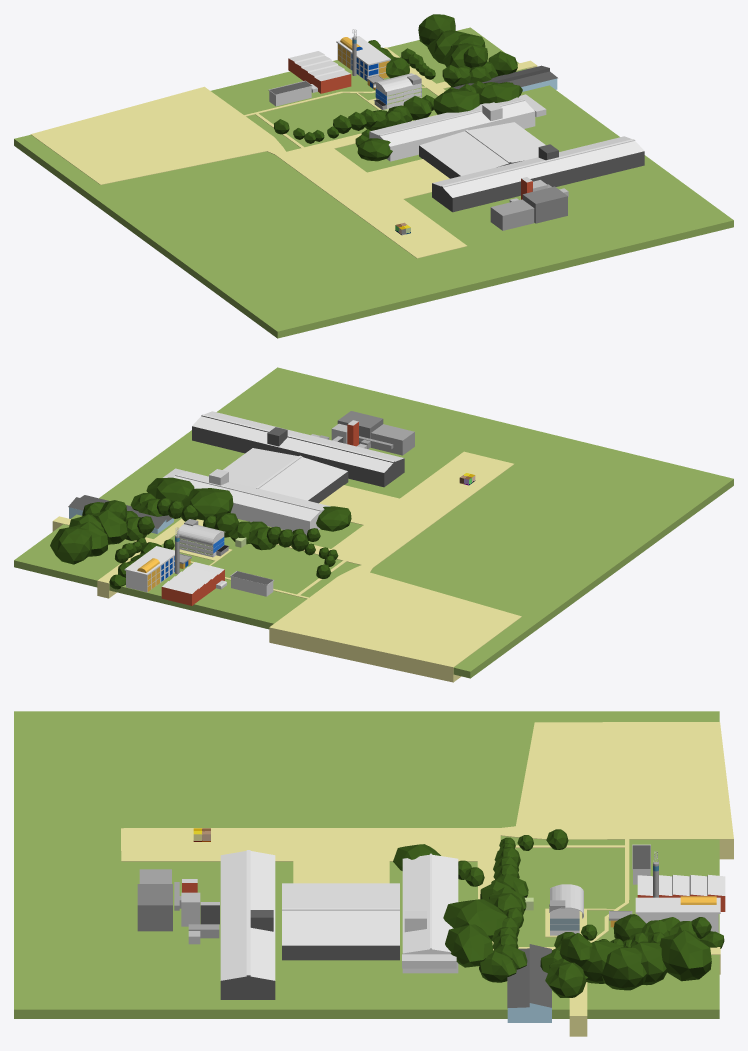
The model's file is poli.glb.
3 views of the same model, one above another, from view 1: azimuth 30°, elevation 25°; view 2: azimuth 150°, elevation 25°; view 3: azimuth 270°, elevation 25° (orthographic). The views are drawn at different scales.
Visible parts, largest first — view 1: Plane, Plane.001, Cube.011, Cube.009, Cube.008, Cube.005, Cube.003, Cube, Cube.013, Cube.023, Cube.014, Icosphere.013 (+5 smaller); view 2: Plane, Plane.001, Cube.011, Cube.009, Cube.008, Cube.005, Cube.003, Cube, Icosphere.015, Icosphere.013, Cube.014, Icosphere.014 (+6 smaller); view 3: Plane, Plane.001, Cube.009, Cube.011, Cube.008, Cube.023, Icosphere.015, Cube.005, Cube.003, Cube.013, Cube, Icosphere.016 (+12 smaller).
Boxes of the visible parts, x1,y1,x2,y2 form: Plane: [14, 27, 733, 338]; Plane.001: [31, 47, 537, 258]; Cube.011: [432, 136, 644, 212]; Cube.009: [419, 122, 545, 178]; Cube.008: [369, 97, 535, 161]; Cube.005: [288, 51, 351, 93]; Cube.003: [336, 36, 390, 81]; Cube: [373, 73, 421, 109]; Cube.013: [522, 186, 567, 223]; Cube.023: [453, 65, 557, 91]; Cube.014: [490, 199, 534, 230]; Icosphere.013: [433, 89, 480, 114]; Plane: [14, 367, 733, 678]; Plane.001: [52, 451, 521, 682]; Cube.011: [192, 411, 404, 487]; Cube.009: [222, 448, 348, 503]; Cube.008: [173, 471, 330, 535]; Cube.005: [161, 562, 224, 605]; Cube.003: [124, 546, 174, 592]; Cube: [177, 519, 229, 557]; Icosphere.015: [50, 526, 92, 564]; Icosphere.013: [181, 488, 233, 520]; Cube.014: [371, 424, 414, 455]; Icosphere.014: [146, 477, 194, 501]; Plane: [14, 711, 719, 1018]; Plane.001: [121, 722, 733, 1036]; Cube.009: [282, 883, 399, 960]; Cube.011: [220, 850, 275, 999]; Cube.008: [402, 853, 458, 973]; Cube.023: [507, 944, 551, 1022]; Icosphere.015: [659, 930, 711, 981]; Cube.005: [637, 874, 725, 911]; Cube.003: [635, 897, 720, 932]; Cube.013: [137, 884, 172, 931]; Cube: [549, 884, 583, 935]; Icosphere.016: [601, 947, 646, 990].
Bounding box in the file's own units: 3.83 × 0.5031 × 3.82.
1 material, 1 textured.
